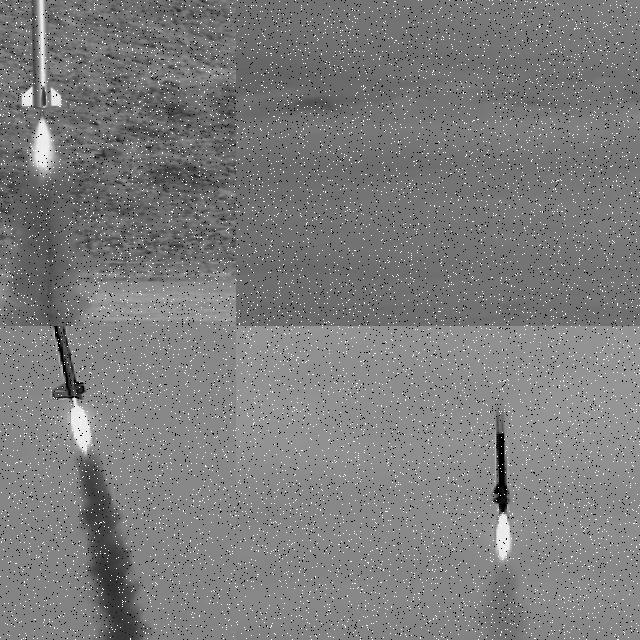Rocket: (21, 0, 62, 109), (47, 326, 87, 401), (490, 398, 511, 514)
